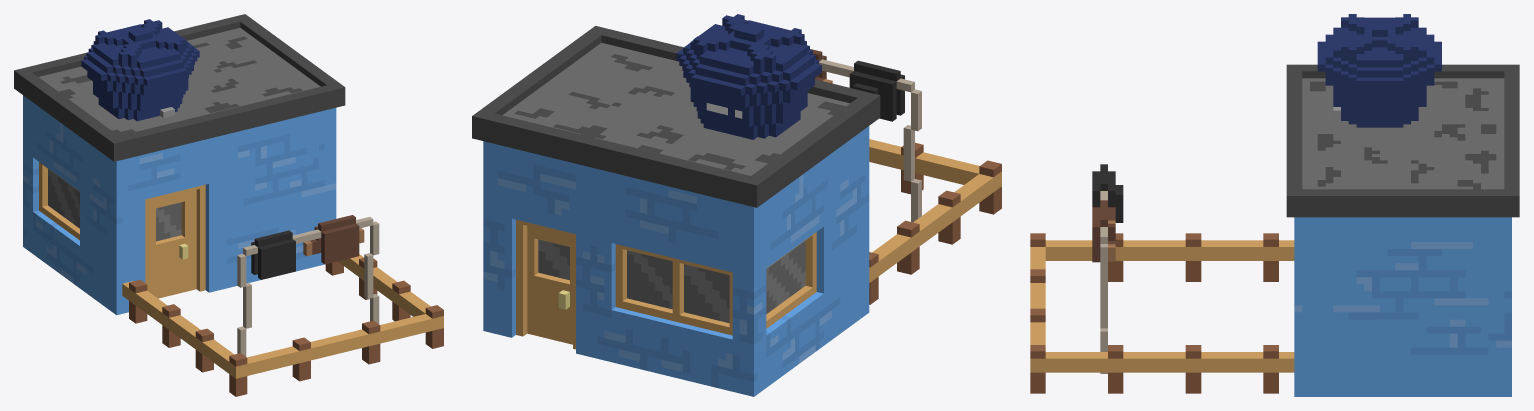
File: variaçõesdecorcasa-9.obj
3 views of the same model, side by side, from view 1: azimuth 30°, elevation 25°; view 2: azimuth 150°, elevation 25°; view 3: azimuth 270°, elevation 25° (orthographic). The views are drawn at different scales.
Size of the model in its own units: 4 by 4 by 6.3.
1 material, 1 textured.
